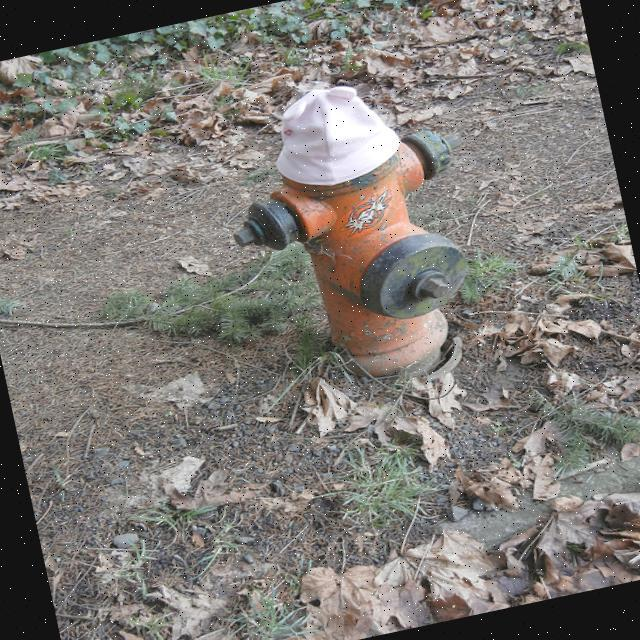fire_hydrant: (203, 61, 493, 395)
